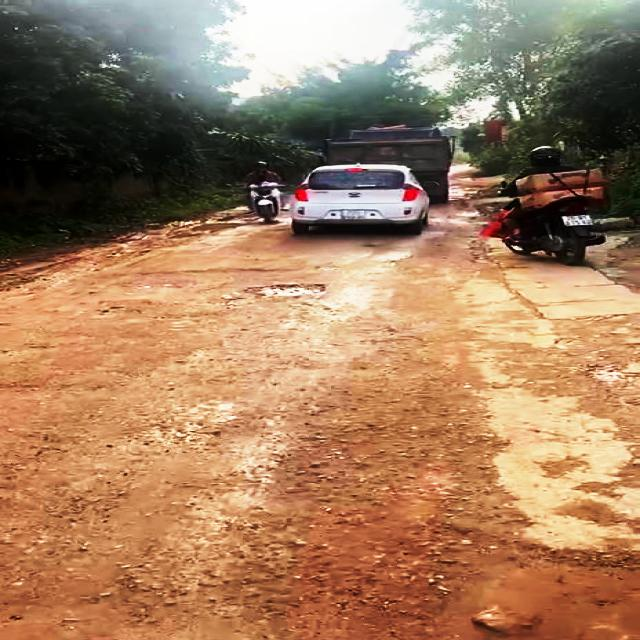pothole: (418, 530, 640, 640), (248, 280, 332, 301)
